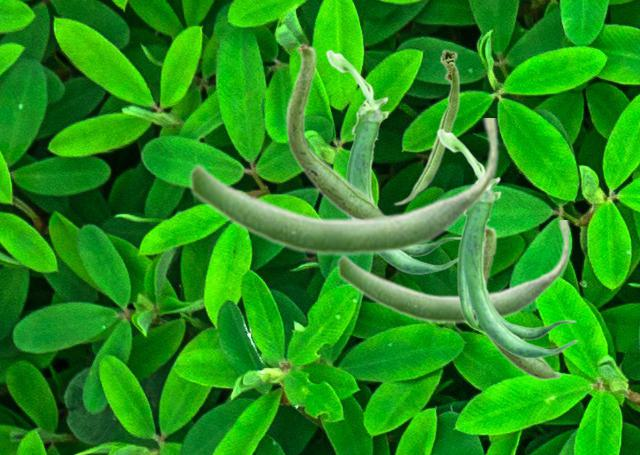french_bean: (188, 118, 499, 257), (436, 128, 577, 358), (325, 49, 460, 274), (336, 220, 570, 324), (285, 41, 385, 216), (483, 224, 561, 380), (393, 48, 459, 205)
